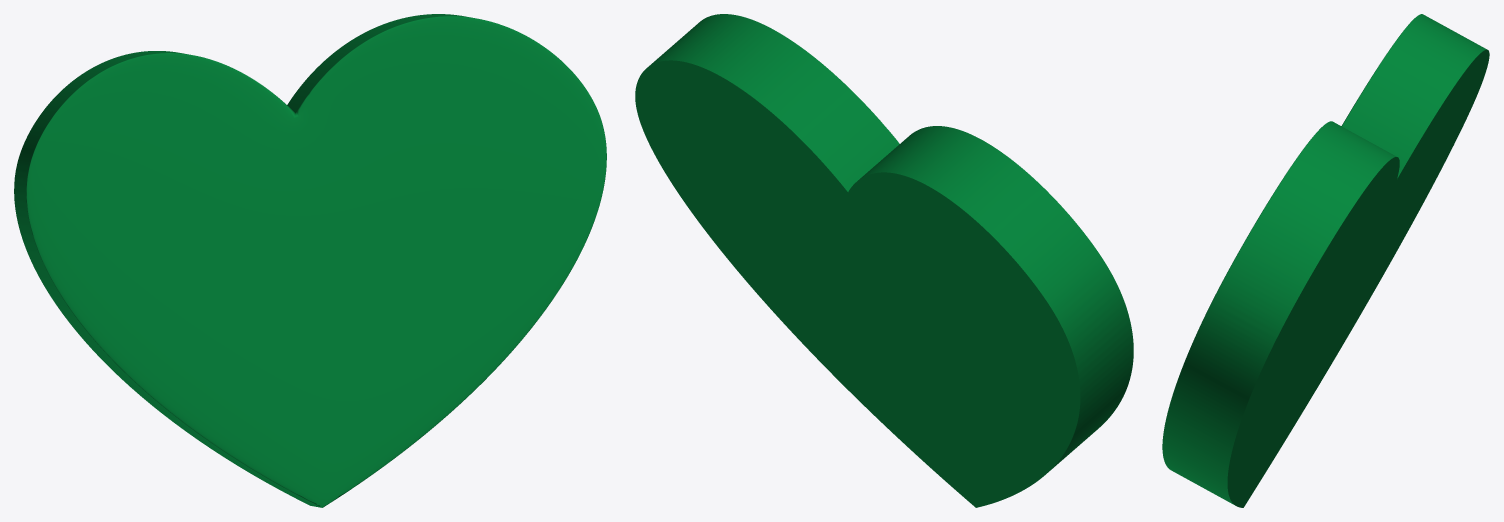
File: charms4.glb
3 renders of one model, left to right at view 1: azimuth 30°, elevation 25°; view 2: azimuth 150°, elevation 25°; view 3: azimuth 270°, elevation 25°, orthographic. The views are drawn at different scales.
Parts seen in each view (by area): view 1: Recurso 3-3; view 2: Recurso 3-3; view 3: Recurso 3-3.
Part boxes in pixels (<box>): Recurso 3-3: <box>14,14,606,507</box>; Recurso 3-3: <box>635,14,1133,507</box>; Recurso 3-3: <box>1162,14,1489,507</box>.
Bounding box in the file's own units: 2.05 × 1.66 × 1.08.
